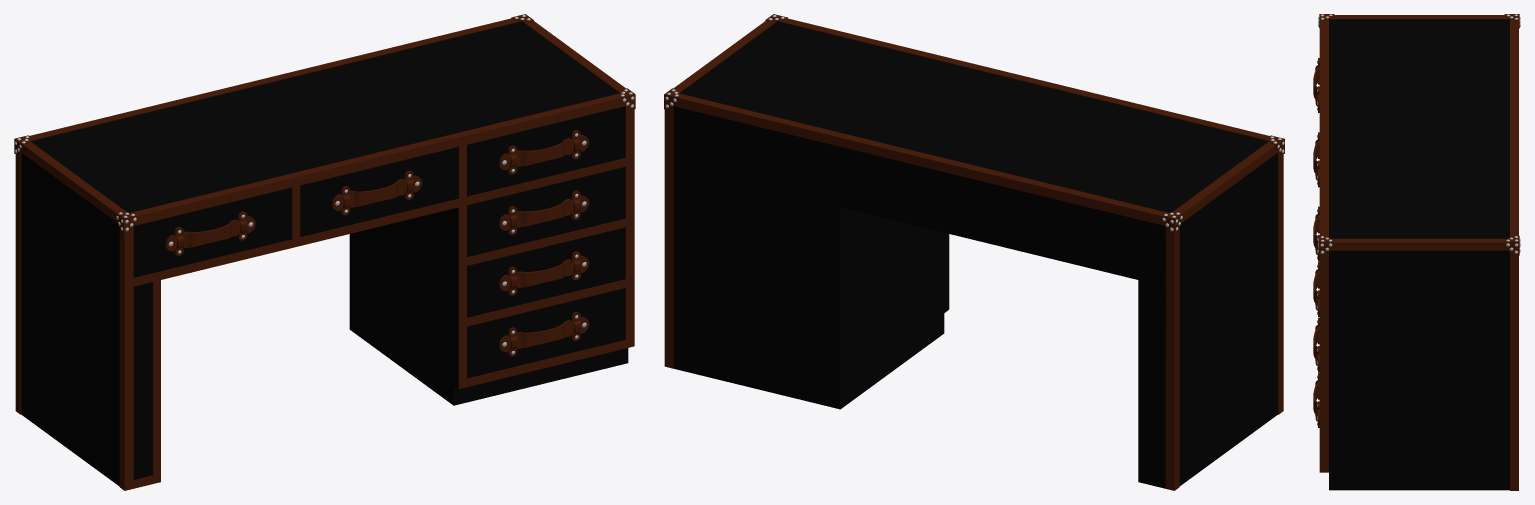
File: AideeDesk3m.glb
The picture shows the model from 3 angles, left to right: view 1: azimuth 30°, elevation 25°; view 2: azimuth 150°, elevation 25°; view 3: azimuth 270°, elevation 25°; orthographic projection. The views are drawn at different scales.
Visible parts, largest first — view 1: Frame, DeskTop, Skirt, D1-Face, D6-Face, D3-Face, D4-Face, D5-Face, D2-Face, Face-Mid-Bottom, Face-Left-Right, Face-Right-Left (+9 smaller); view 2: Frame, DeskTop, Skirt; view 3: Frame, DeskTop, Skirt, Corner-BR, Corner-FR.
Boxes of the visible parts, x1,y1,x2,y2 form: Frame: [21, 106, 628, 486]; DeskTop: [30, 21, 619, 212]; Skirt: [15, 18, 634, 490]; D1-Face: [133, 188, 291, 277]; D6-Face: [467, 288, 624, 377]; D3-Face: [467, 106, 624, 196]; D4-Face: [467, 167, 624, 256]; D5-Face: [467, 227, 624, 317]; D2-Face: [300, 147, 457, 236]; Face-Mid-Bottom: [133, 158, 625, 286]; Face-Left-Right: [152, 280, 160, 483]; Face-Right-Left: [458, 205, 466, 388]; Frame: [673, 106, 1277, 488]; DeskTop: [680, 21, 1268, 212]; Skirt: [664, 18, 1283, 490]; Frame: [1329, 250, 1509, 490]; DeskTop: [1329, 19, 1509, 238]; Skirt: [1319, 15, 1518, 490]; Corner-BR: [1504, 235, 1520, 255]; Corner-FR: [1318, 235, 1333, 255].
Bounding box in the file's own units: 2.77 × 1.41 × 1.06.
